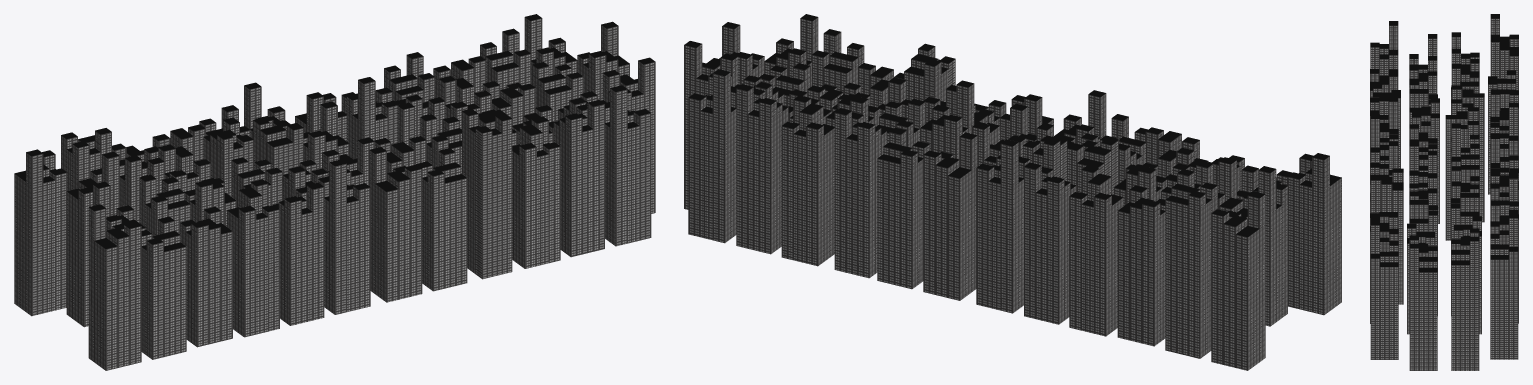
Rendered from Skyline_Menu.FBX.
3 views of the same model, side by side, from view 1: azimuth 30°, elevation 25°; view 2: azimuth 150°, elevation 25°; view 3: azimuth 270°, elevation 25° (orthographic). The views are drawn at different scales.
Visible parts, largest first — view 1: Skyline_Geo; view 2: Skyline_Geo; view 3: Skyline_Geo.
Boxes of the visible parts, <box> form: Skyline_Geo: <box>14,14,655,370</box>; Skyline_Geo: <box>684,14,1341,370</box>; Skyline_Geo: <box>1370,14,1518,370</box>.
Bounding box in the file's own units: 62117 × 18143 × 17184.
2 materials, 1 textured.
